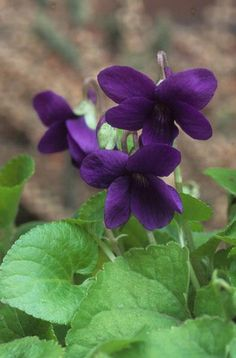violet: (73, 144, 199, 236), (98, 62, 221, 152)
